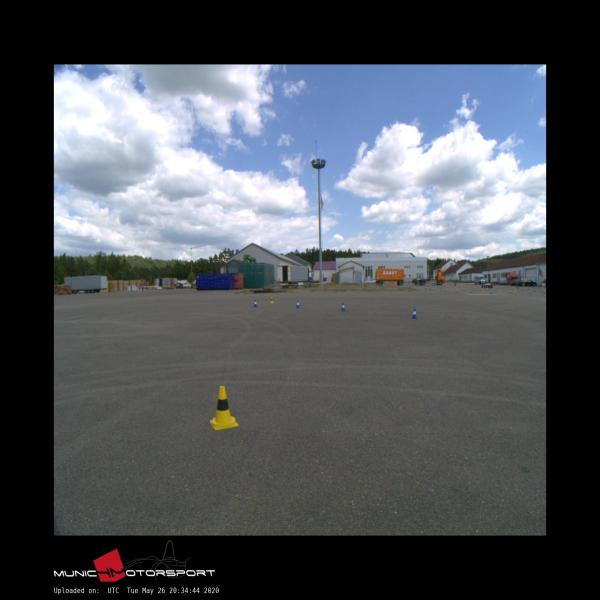blue_cone: (412, 309, 418, 318), (340, 303, 346, 312), (253, 299, 258, 307), (296, 300, 300, 308)
yellow_cone: (209, 384, 237, 430), (270, 296, 274, 304)
